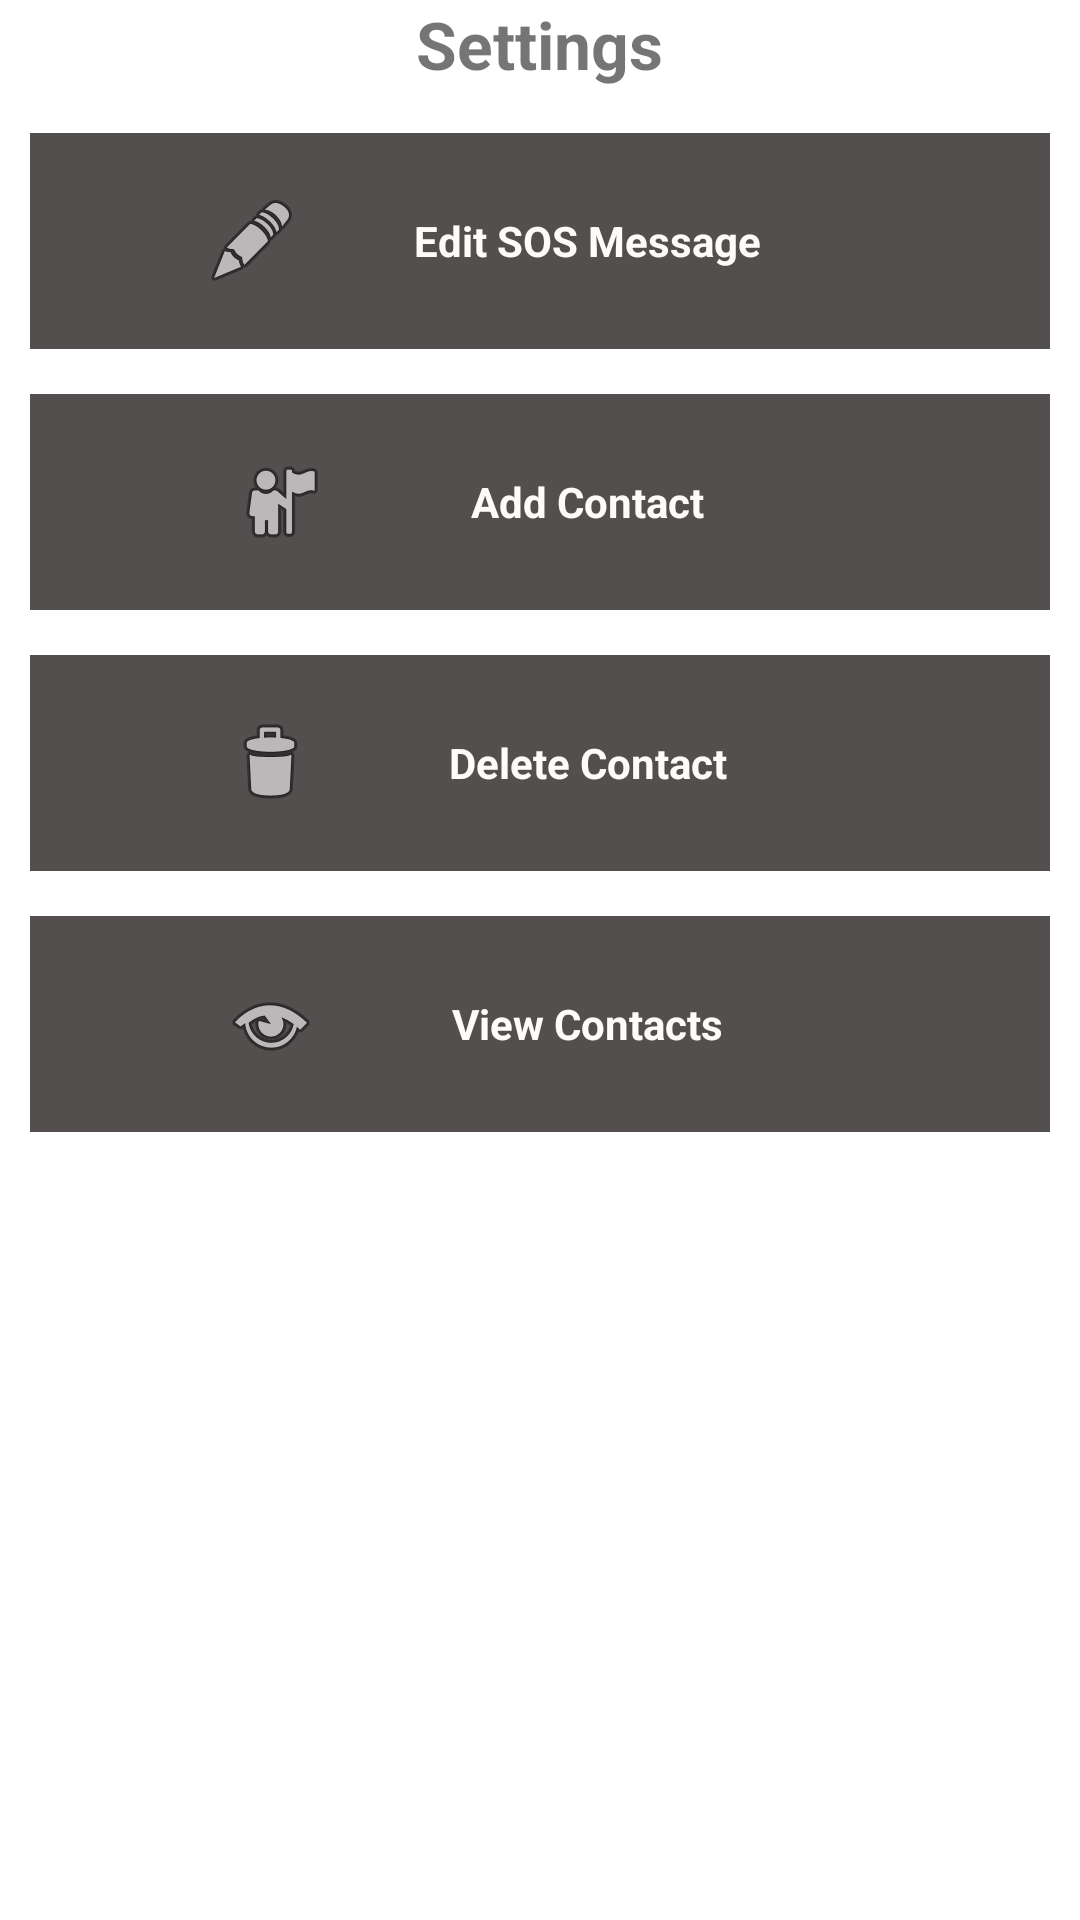

Where to tap for icons on this 1080w x 1920h app screen, as [x,y]:
myplaces: [282,502]
